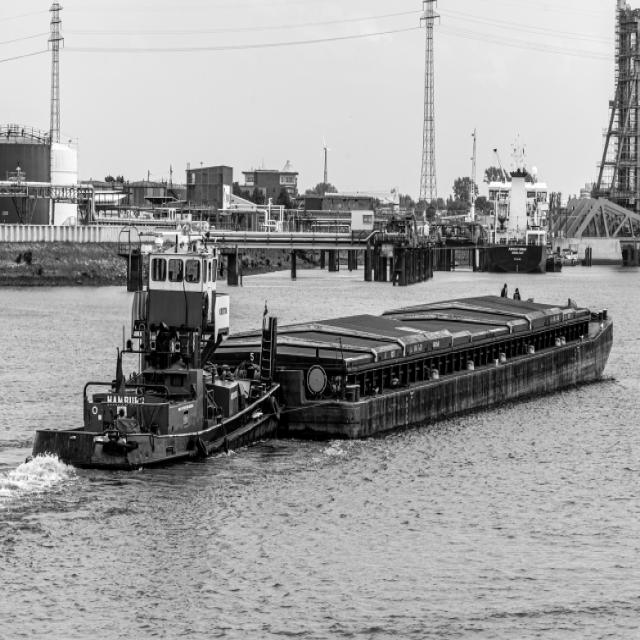tugboat: (24, 225, 287, 484)
